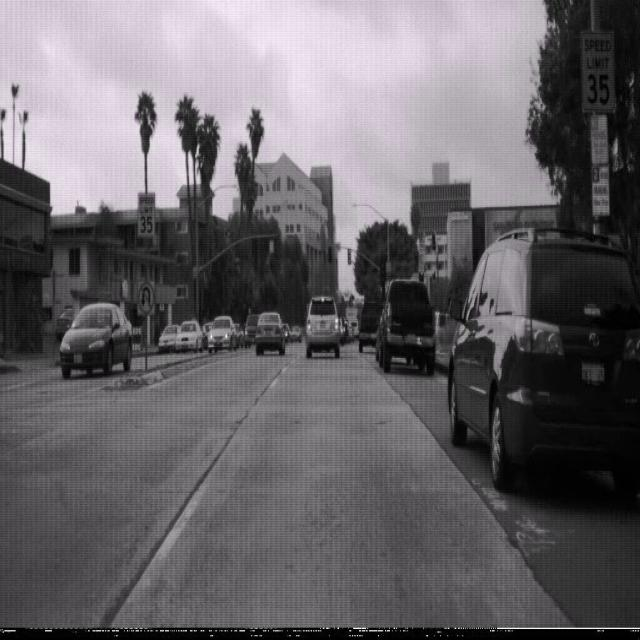speedLimit35: (580, 28, 616, 112), (136, 190, 156, 238)
